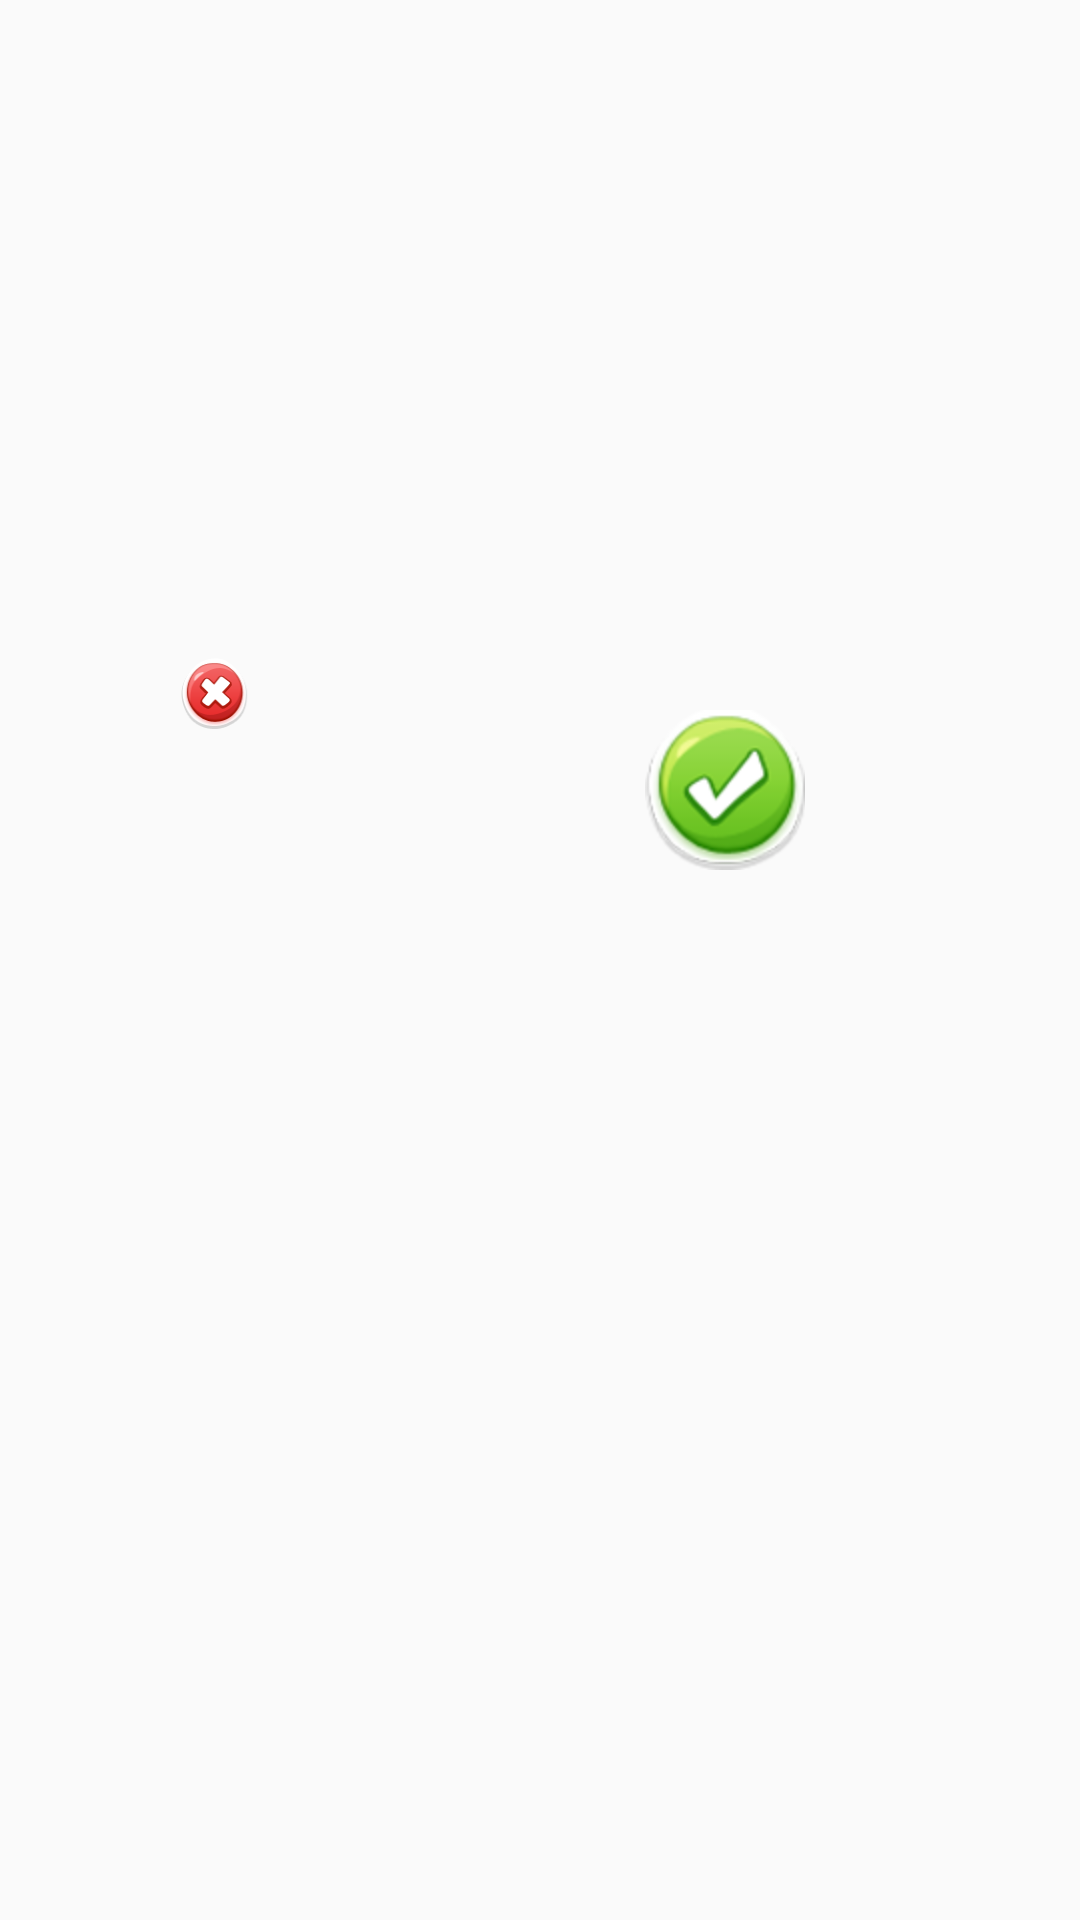

Point at icon controls on the screen. Image size 1080w x 1920h, points as (x,y).
canclebtn: (214,696)
okbtn: (726,792)
